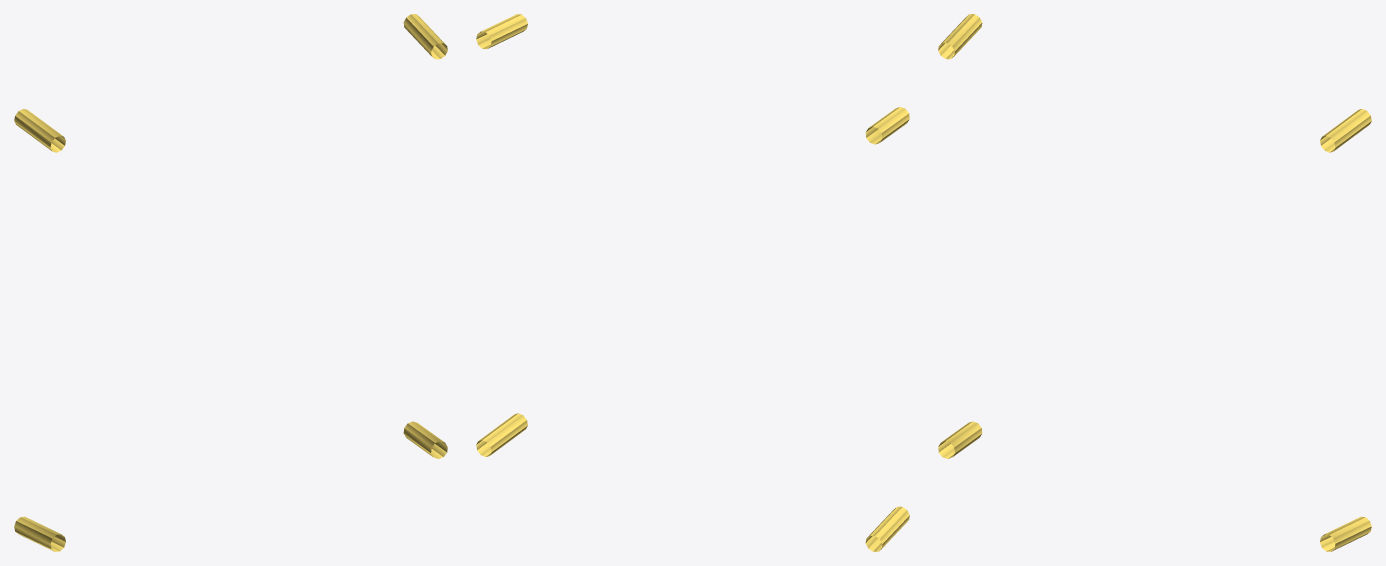
The model's file is ChairmeshChair_2_0_GeomSubset_2.obj.
The picture shows the model from 3 angles, left to right: view 1: azimuth 30°, elevation 25°; view 2: azimuth 150°, elevation 25°; view 3: azimuth 330°, elevation 25°; orthographic projection.
Parts seen in each view (by area): view 1: ChairmeshChair_2_0_GeomSubset_2; view 2: ChairmeshChair_2_0_GeomSubset_2; view 3: ChairmeshChair_2_0_GeomSubset_2.
Part boxes in pixels (bbox=[...]): ChairmeshChair_2_0_GeomSubset_2: bbox=[14, 14, 447, 551]; ChairmeshChair_2_0_GeomSubset_2: bbox=[476, 14, 909, 551]; ChairmeshChair_2_0_GeomSubset_2: bbox=[938, 14, 1371, 551].
Bounding box in the file's own units: 0.3764 × 0.3764 × 0.0529.
